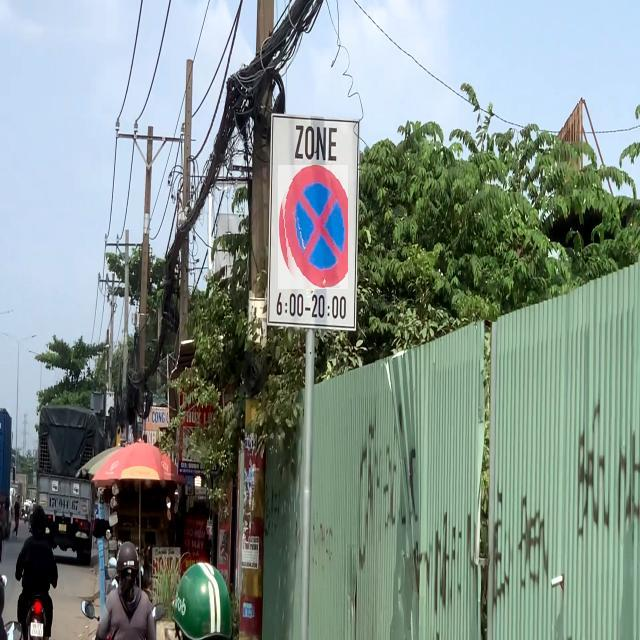P-130: (279, 165, 349, 289)
